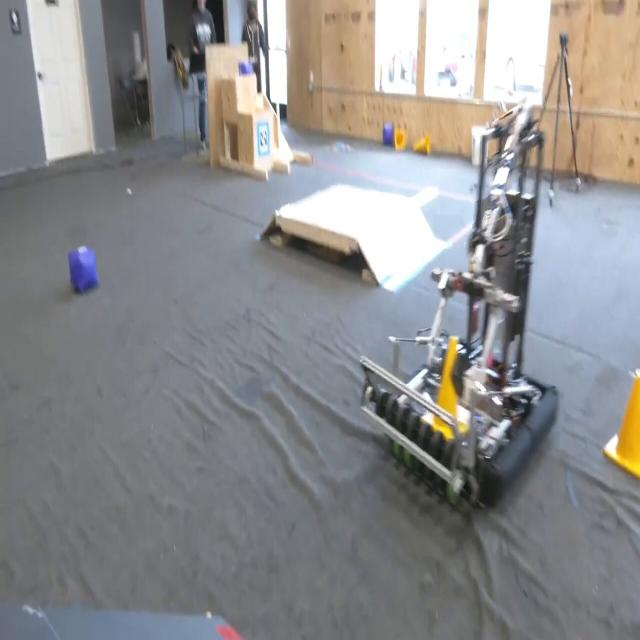frc_cone: (606, 351, 640, 506), (412, 128, 434, 161)
frc_cube: (68, 244, 95, 289), (376, 118, 390, 148), (238, 61, 254, 79)
